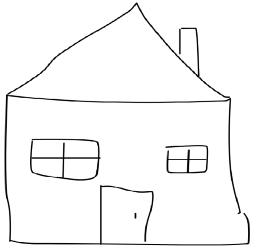big_house: (0, 0, 260, 250)
chimney: (170, 22, 204, 86)
closed_window: (24, 128, 105, 183), (159, 138, 214, 176)
door: (91, 181, 155, 248)
roof: (3, 0, 235, 108)
wall: (1, 88, 251, 247)
